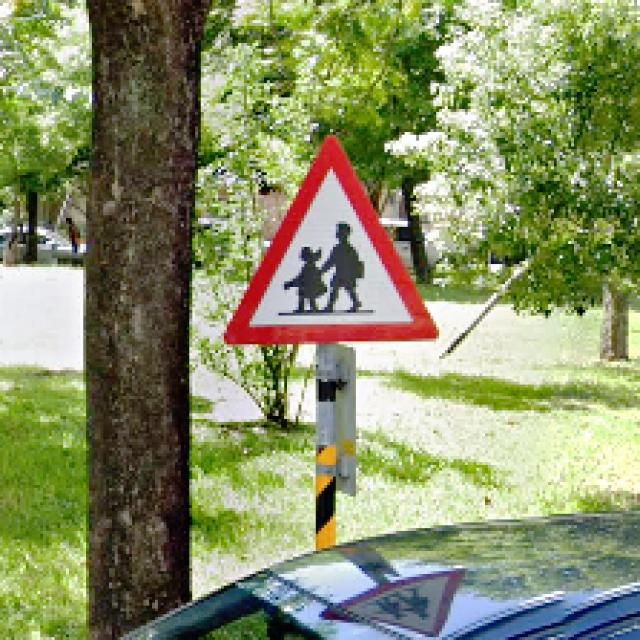childrencross: (225, 138, 439, 343)
